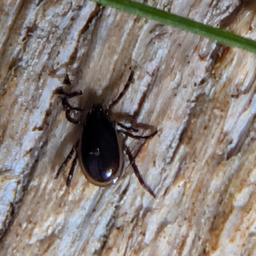Ixodes scapularis: (55, 70, 159, 199)
